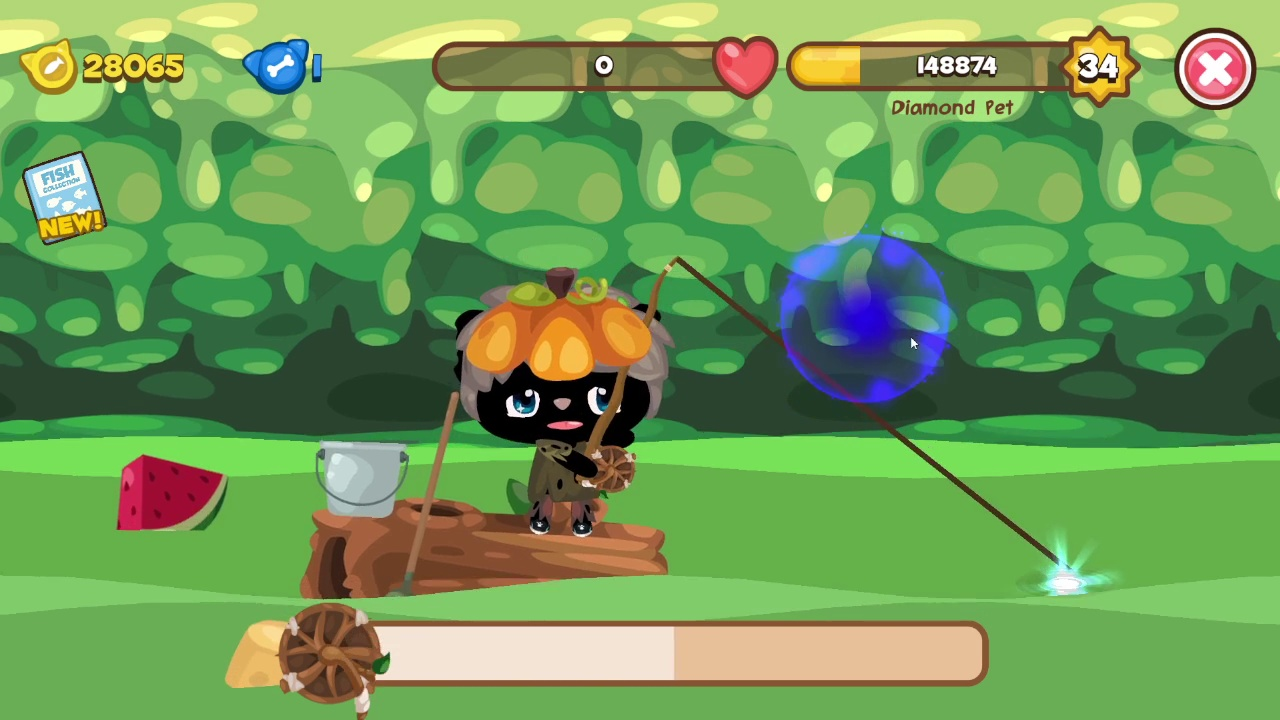point: (778, 232, 954, 409)
